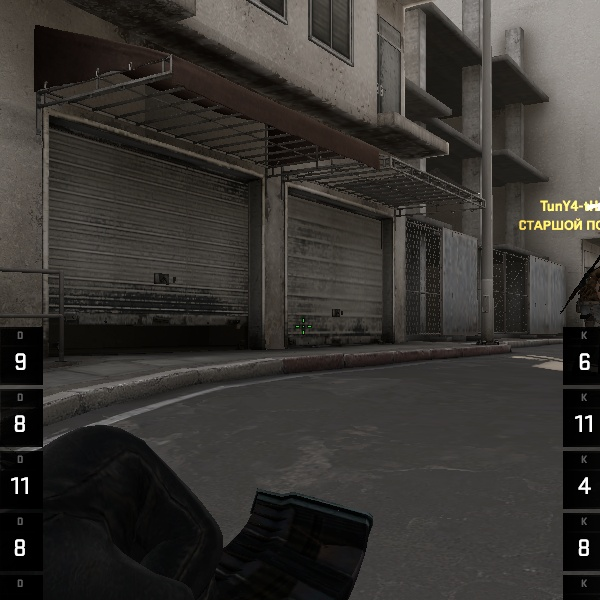t_body: (560, 243, 599, 333)
